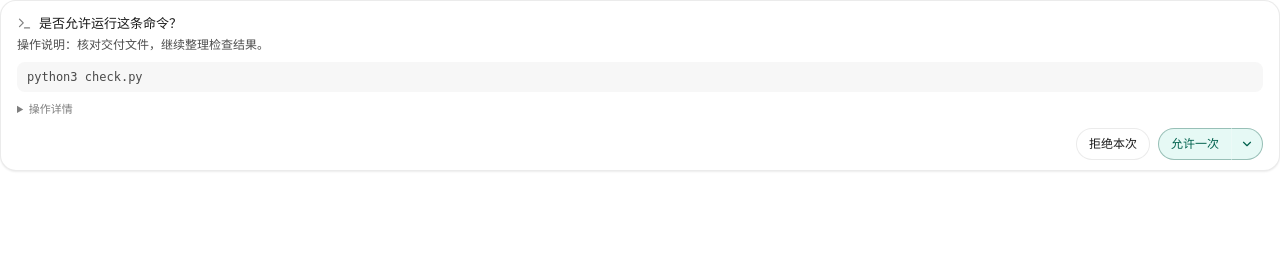
PermissionInlineCard › 有说明才展示一句操作说明，其他参数中不重复命令和说明
Check: the text "操作说明：核对交付文件，继续整理检查结果。" is shown, box [17,37,269,52]
Click the heading "操作详情" at coordinates (51, 109), box [29,102,73,116]
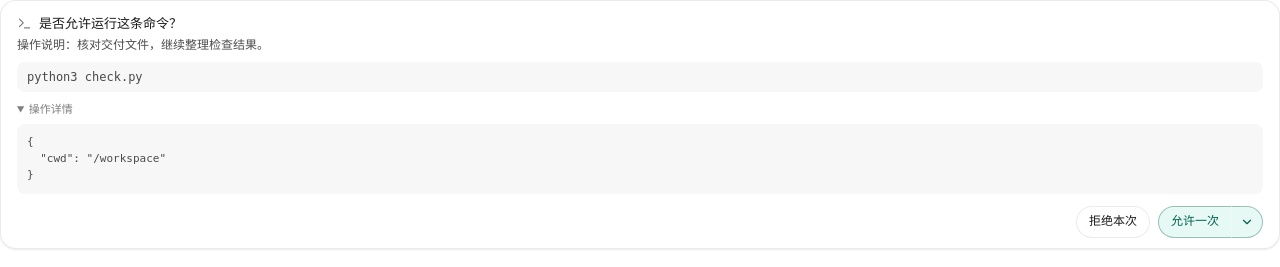
Check: the text "{ \"cwd\": \"/workspace\" }" is shown, box [17,124,1263,194]
